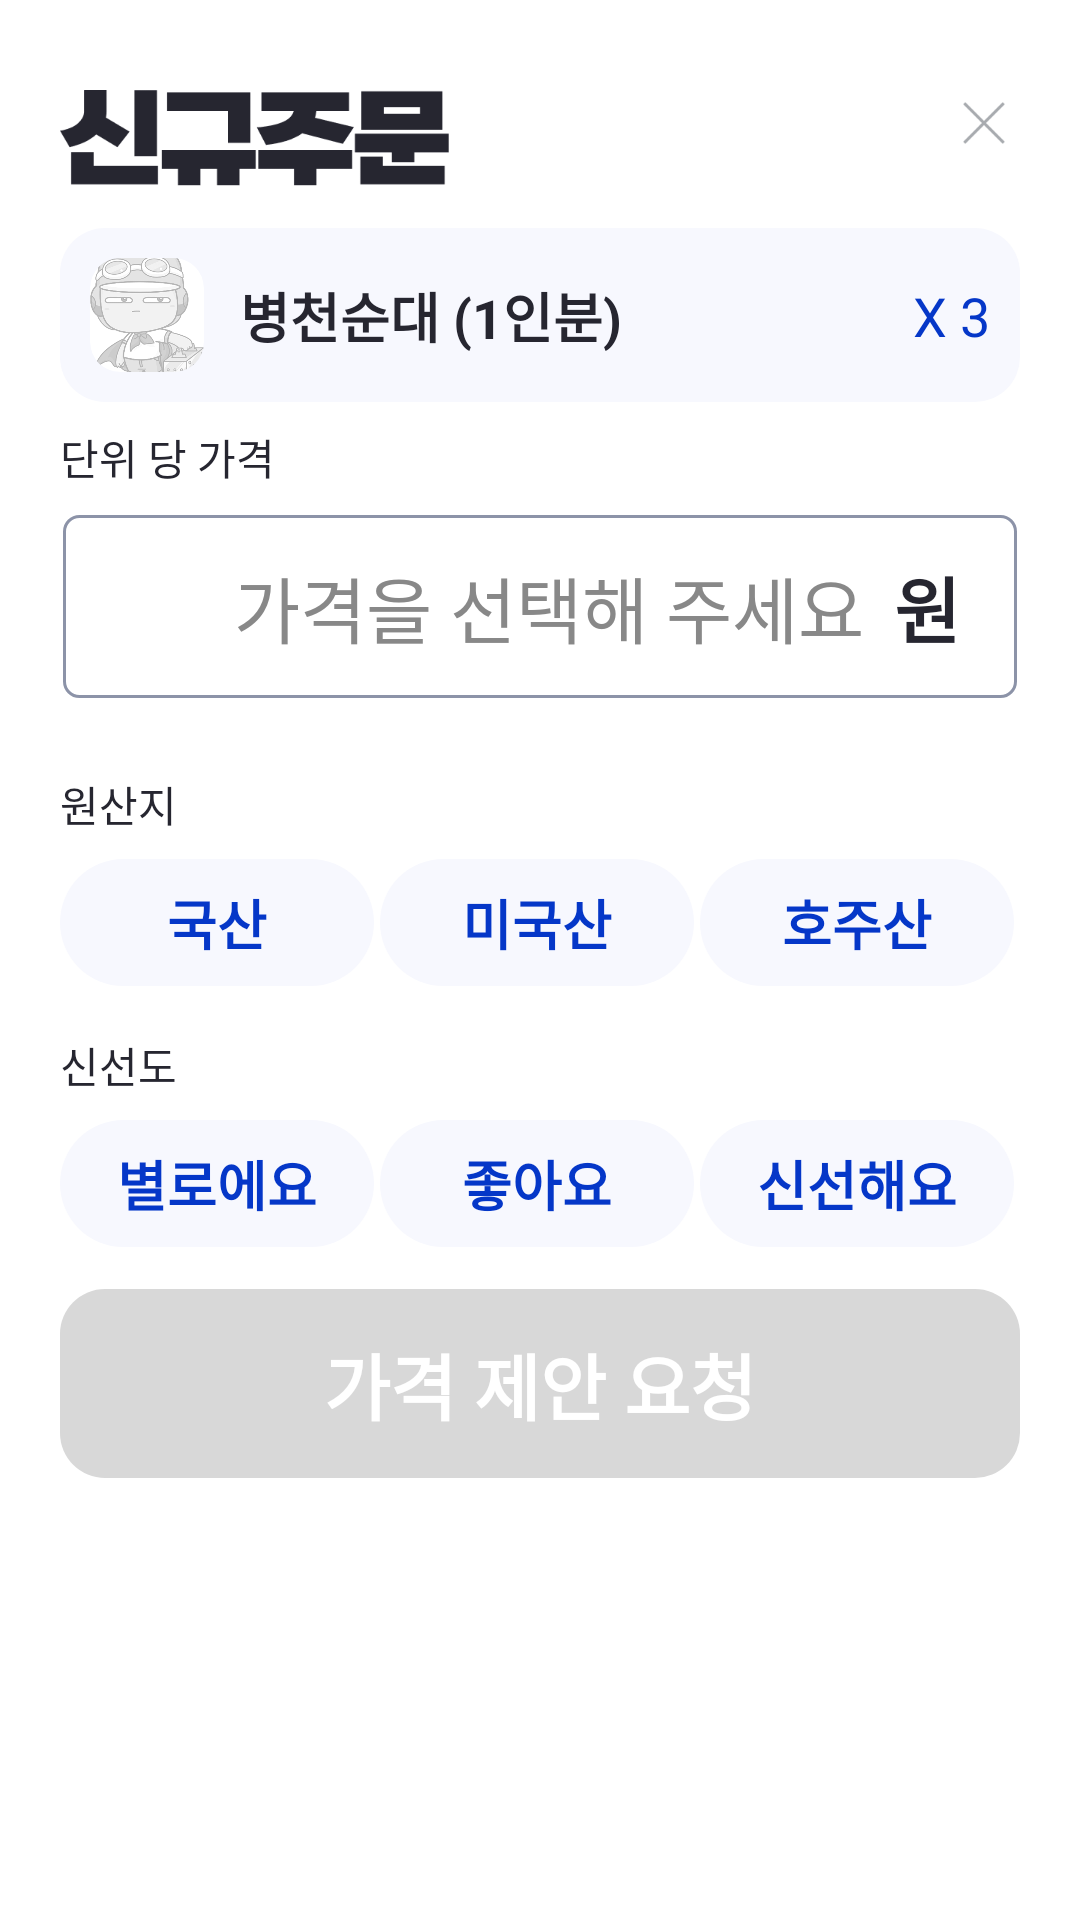

Icons on this 1080×1920 Android screen, each with its box as Rect(x1, y1, x2, y2):
close: Rect(963, 102, 1005, 144)
